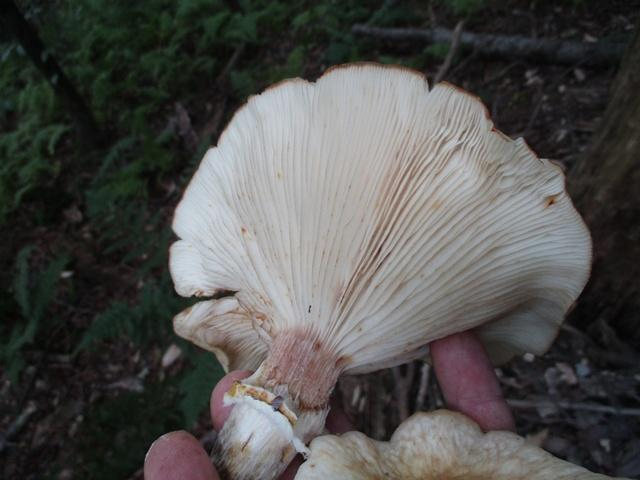edible_mushroom: (166, 60, 594, 478)
